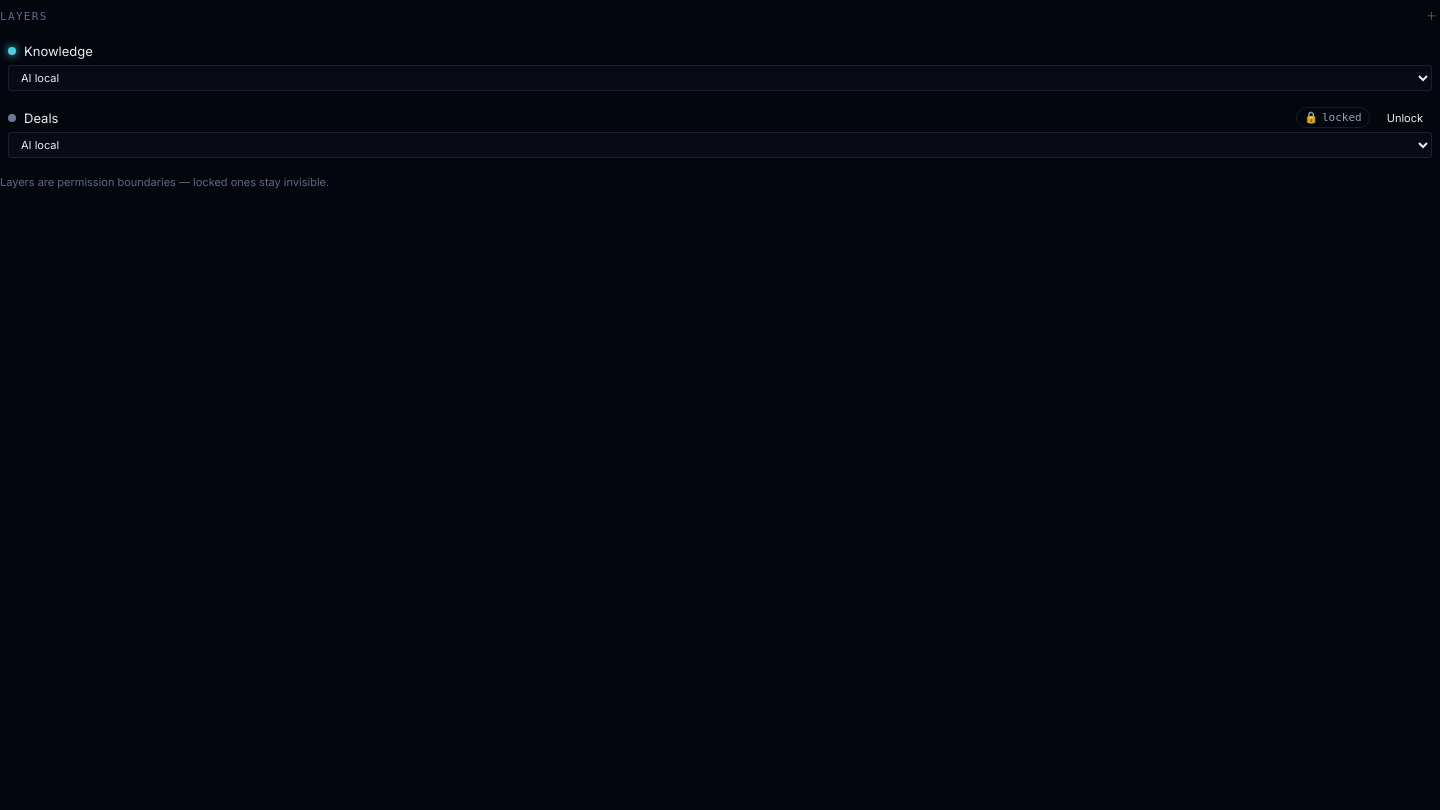
Scenario: LayerPanel › offers remember-on-this-device in the unlock dialog
Click the button "Unlock" at (1405, 118), box top-left (1378, 109), bottom-right (1432, 127)
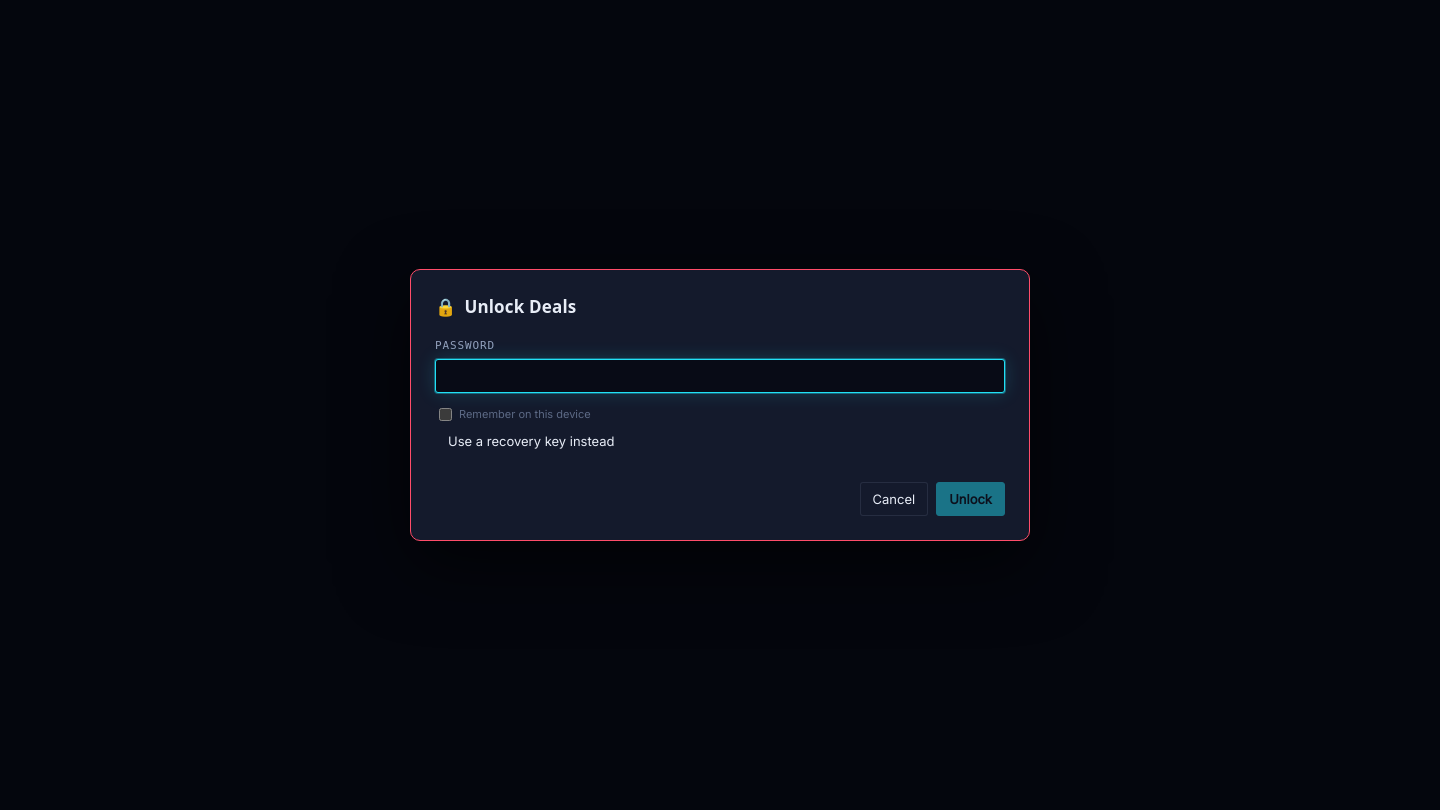
Result: the checkbox labelled "Remember on this device" is shown at top-left (439, 408), bottom-right (452, 421)
